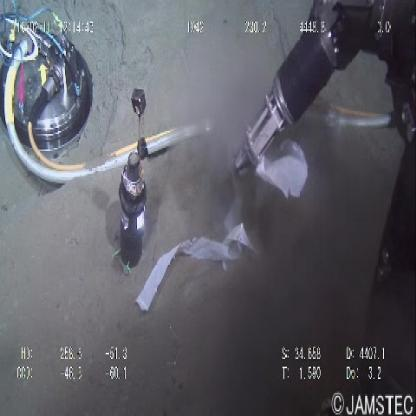Rov: (230, 1, 416, 177), (1, 1, 94, 184), (110, 80, 152, 268)
Rác: (138, 146, 310, 319)
